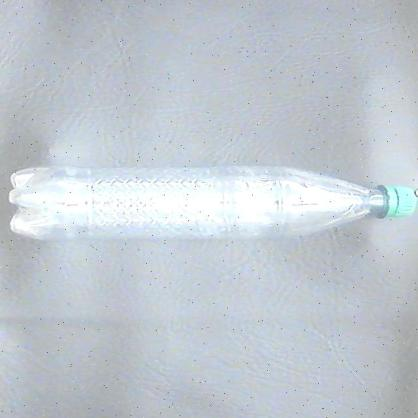bottle: (5, 163, 416, 245)
cap: (374, 180, 418, 231)
